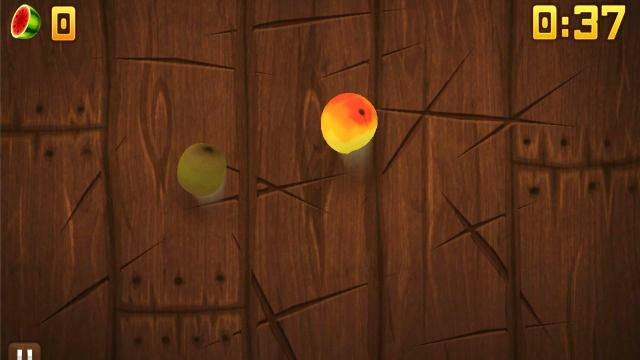fruit: (320, 92, 378, 153), (176, 142, 226, 198)
ignore: (10, 4, 42, 40)
